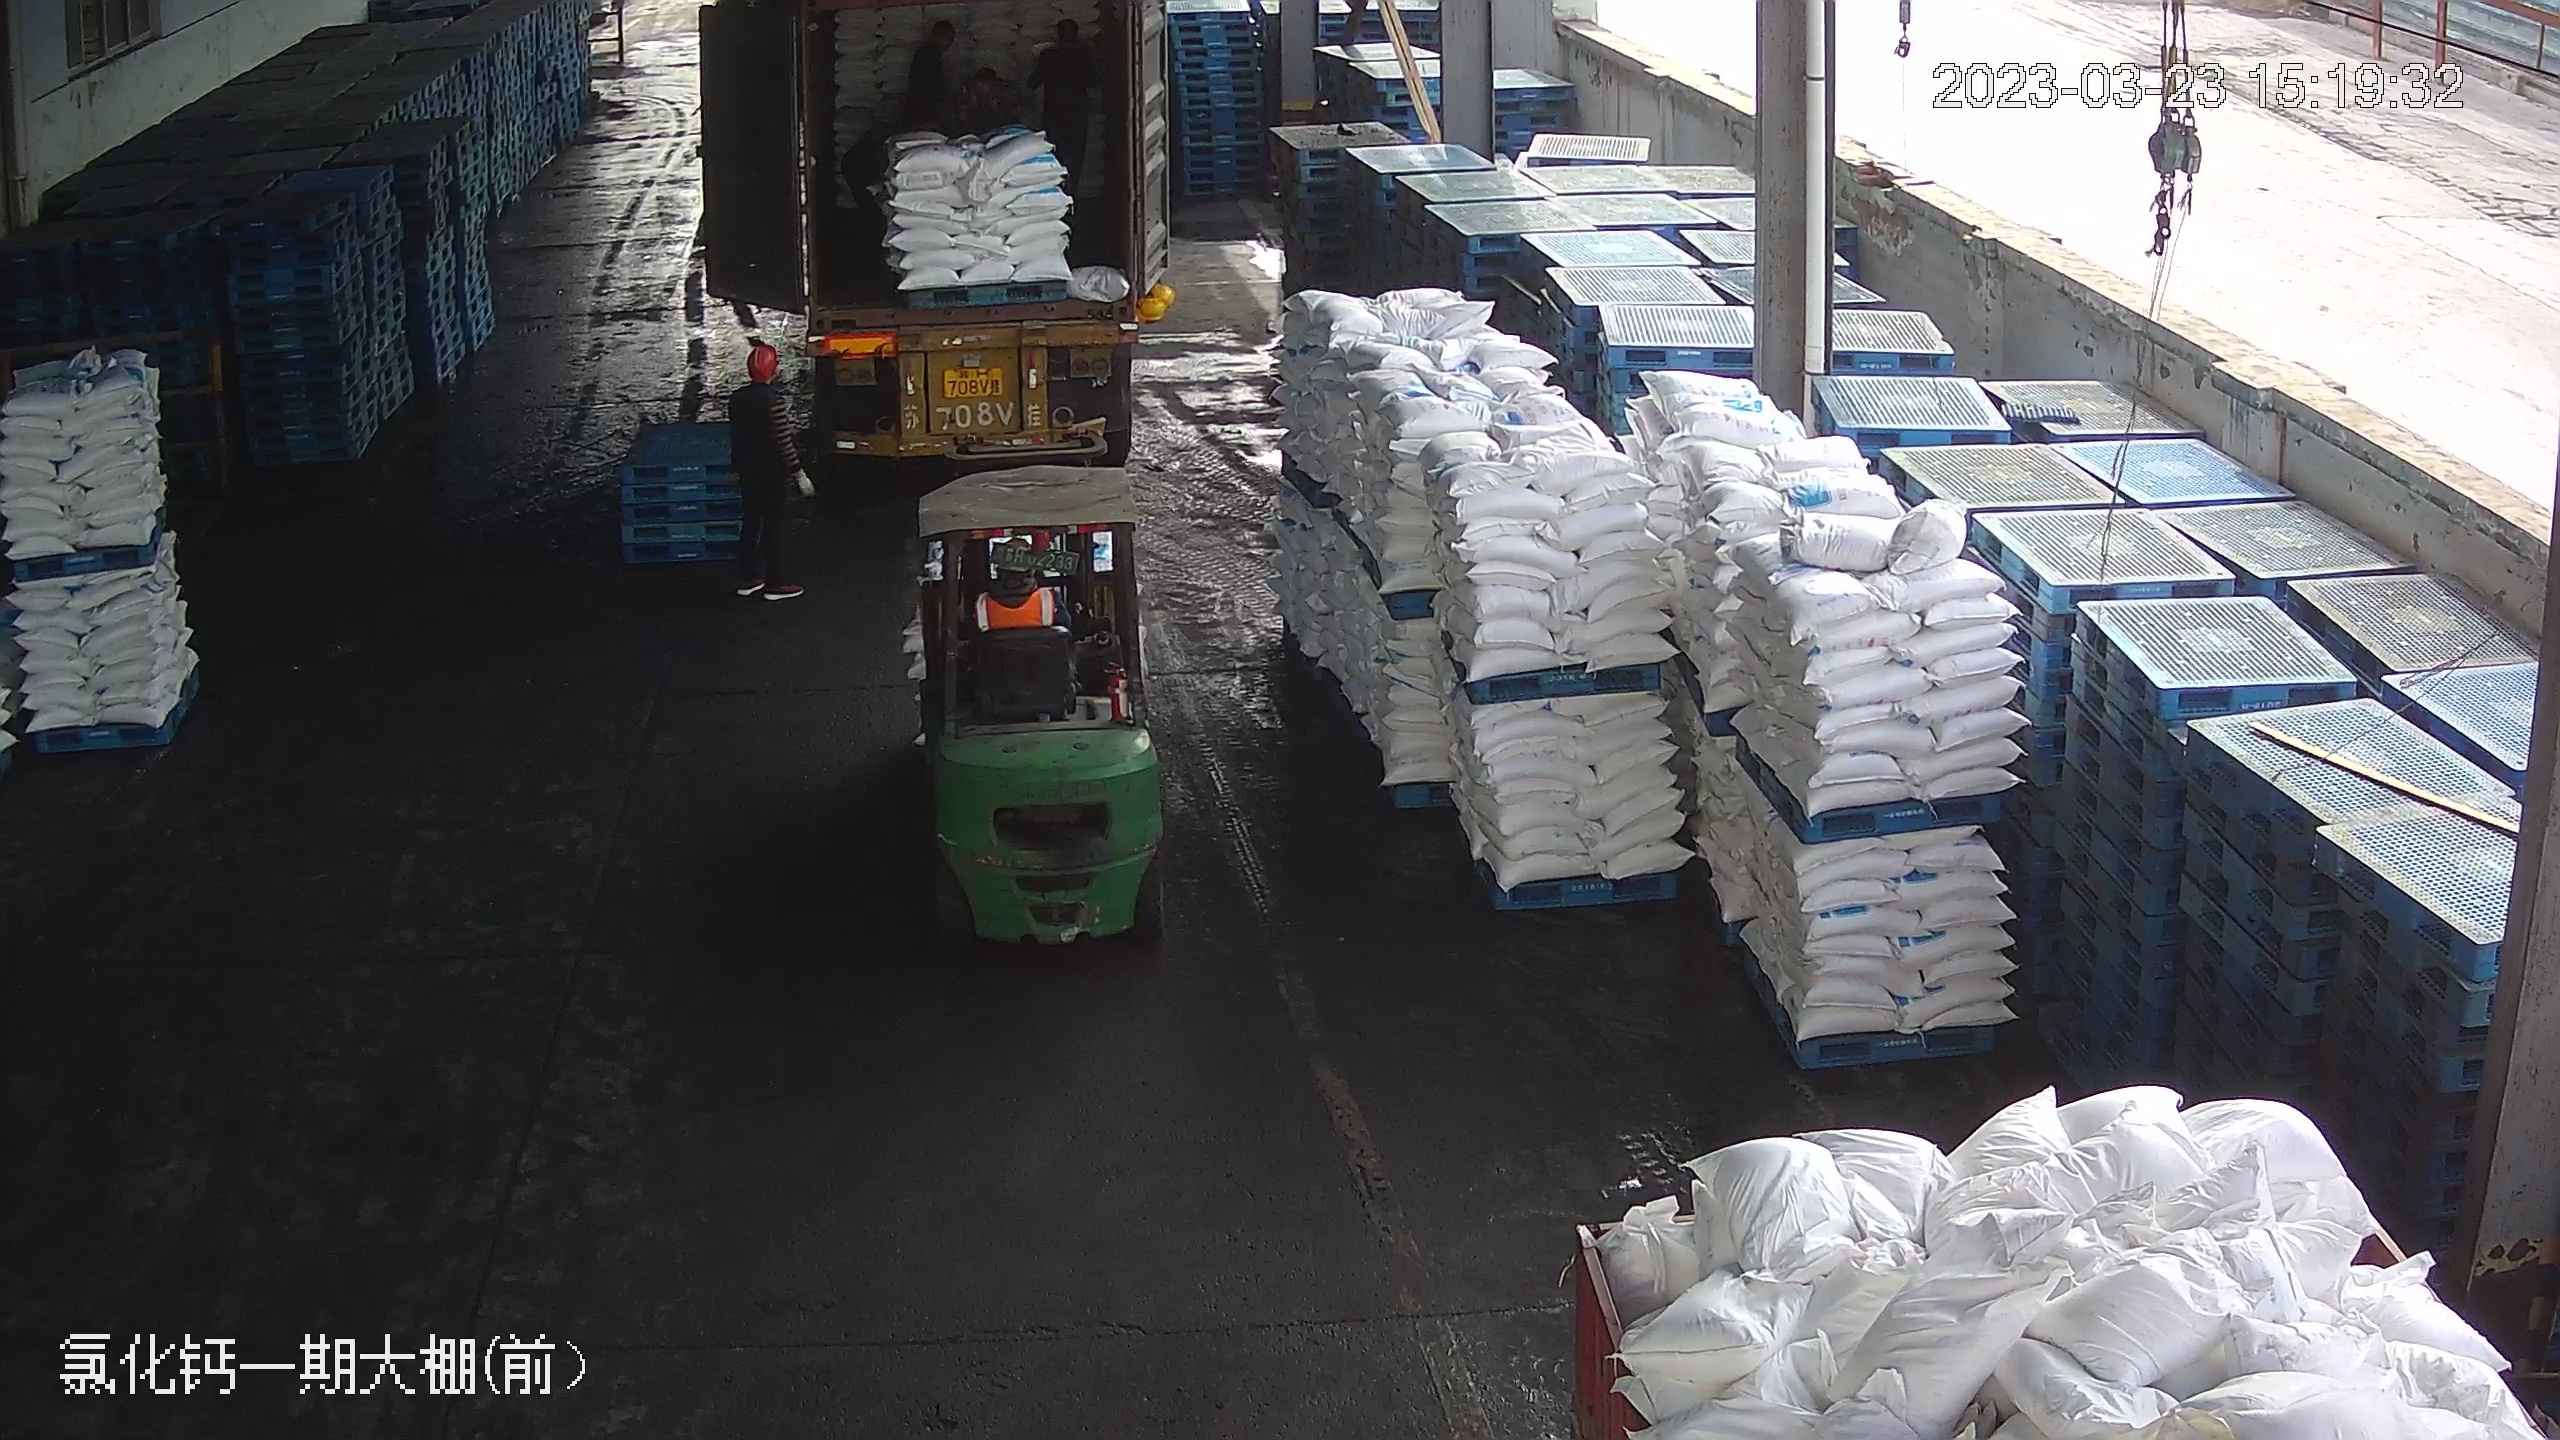head: (728, 342, 795, 422), (1040, 15, 1099, 87), (909, 19, 961, 84)
helmet: (746, 342, 782, 374), (1136, 294, 1168, 321), (1152, 282, 1175, 305)
people: (724, 341, 810, 605)
truck: (1549, 1102, 2560, 1440)
